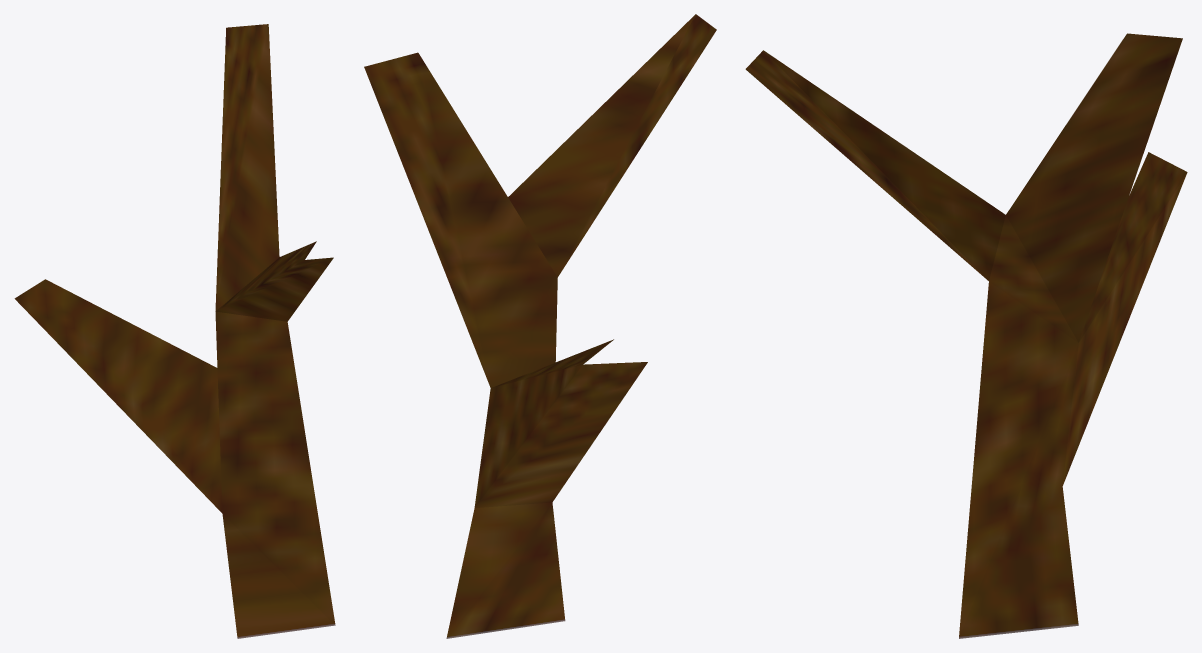
The model's file is treebranch09.glb.
3 renders of one model, left to right at view 1: azimuth 30°, elevation 25°; view 2: azimuth 150°, elevation 25°; view 3: azimuth 270°, elevation 25°, orthographic. The views are drawn at different scales.
Parts seen in each view (by area): view 1: treebranch09; view 2: treebranch09; view 3: treebranch09.
Boxes of the visible parts, x1=… form: treebranch09: x1=14, y1=24, x2=335, y2=638; treebranch09: x1=364, y1=14, x2=716, y2=638; treebranch09: x1=745, y1=33, x2=1187, y2=638.
Bounding box in the file's own units: 306 × 652 × 429.
Materials: 1 (1 with a texture image).
